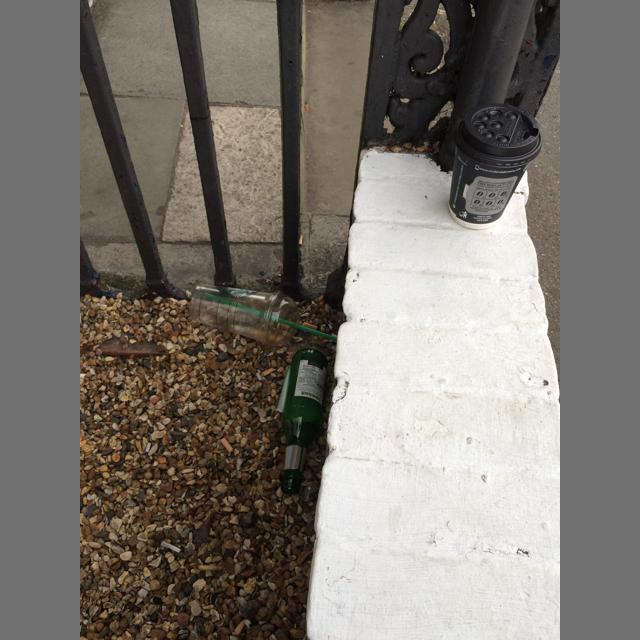litter: (448, 144, 531, 230), (281, 349, 328, 495), (453, 103, 542, 168), (190, 284, 283, 346), (210, 297, 337, 341), (262, 290, 300, 346), (160, 540, 181, 553), (220, 438, 233, 453), (234, 619, 245, 635), (198, 565, 223, 572), (262, 368, 276, 376), (304, 322, 317, 330), (280, 323, 290, 331), (300, 233, 304, 244)
